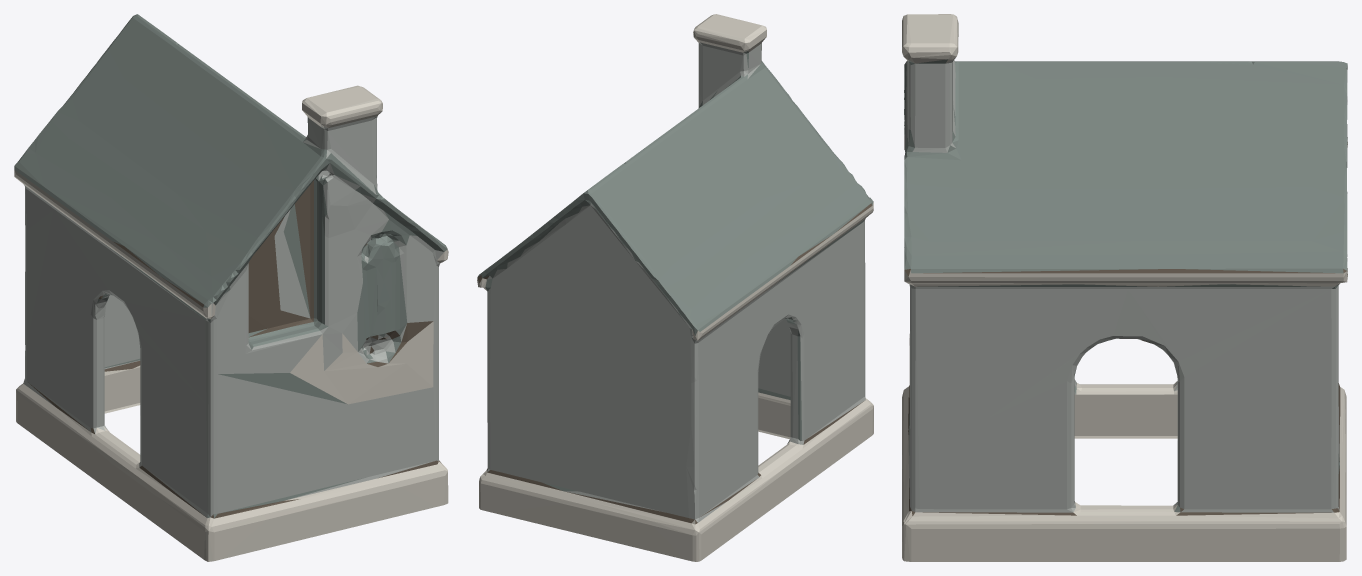
3 views of the same model, side by side, from view 1: azimuth 30°, elevation 25°; view 2: azimuth 150°, elevation 25°; view 3: azimuth 270°, elevation 25° (orthographic). The views are drawn at different scales.
Visible parts, largest first — view 1: geometry_0; view 2: geometry_0; view 3: geometry_0.
Part boxes in pixels (x1,y1,x2,y2): geometry_0: (14, 14, 448, 561); geometry_0: (477, 14, 873, 561); geometry_0: (902, 14, 1347, 561).
Bounding box in the file's own units: 0.5994 × 0.9801 × 0.8255.
